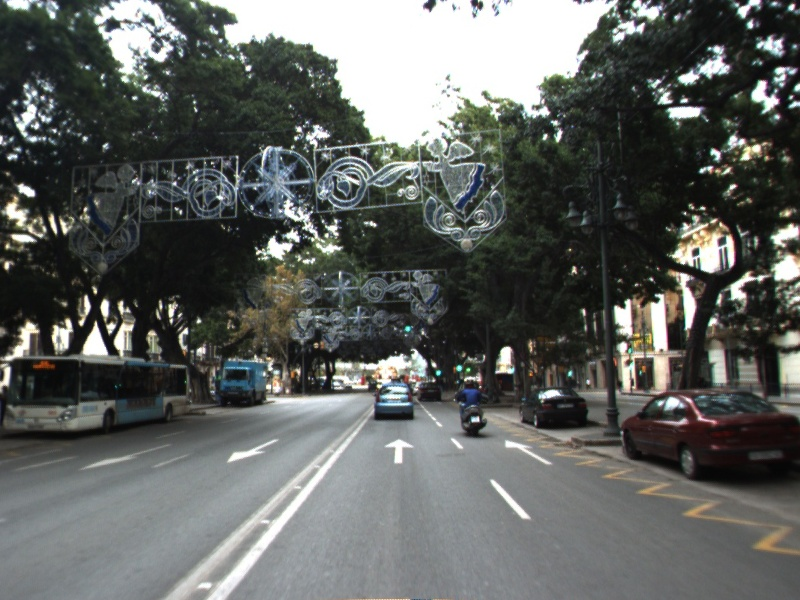STRAIGHT: (503, 438, 555, 467), (382, 437, 416, 466)
